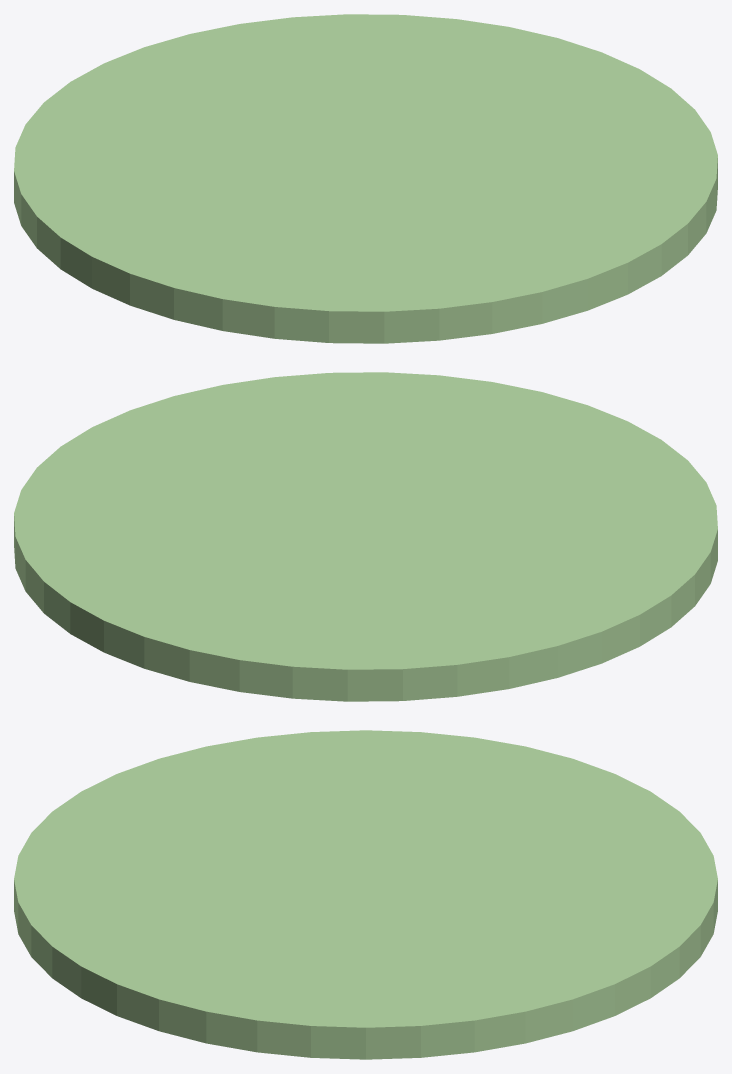
Rendered from chao-bosque.glb.
3 renders of one model, top to bottom at view 1: azimuth 30°, elevation 25°; view 2: azimuth 150°, elevation 25°; view 3: azimuth 270°, elevation 25°, orthographic.
Visible parts, largest first — view 1: chao-bosque; view 2: chao-bosque; view 3: chao-bosque.
Boxes of the visible parts, left/top/right/bottom form: chao-bosque: left=14, top=14, right=717, bottom=343; chao-bosque: left=14, top=372, right=717, bottom=701; chao-bosque: left=14, top=730, right=717, bottom=1059.
Bounding box in the file's own units: 2 × 0.1 × 2.
